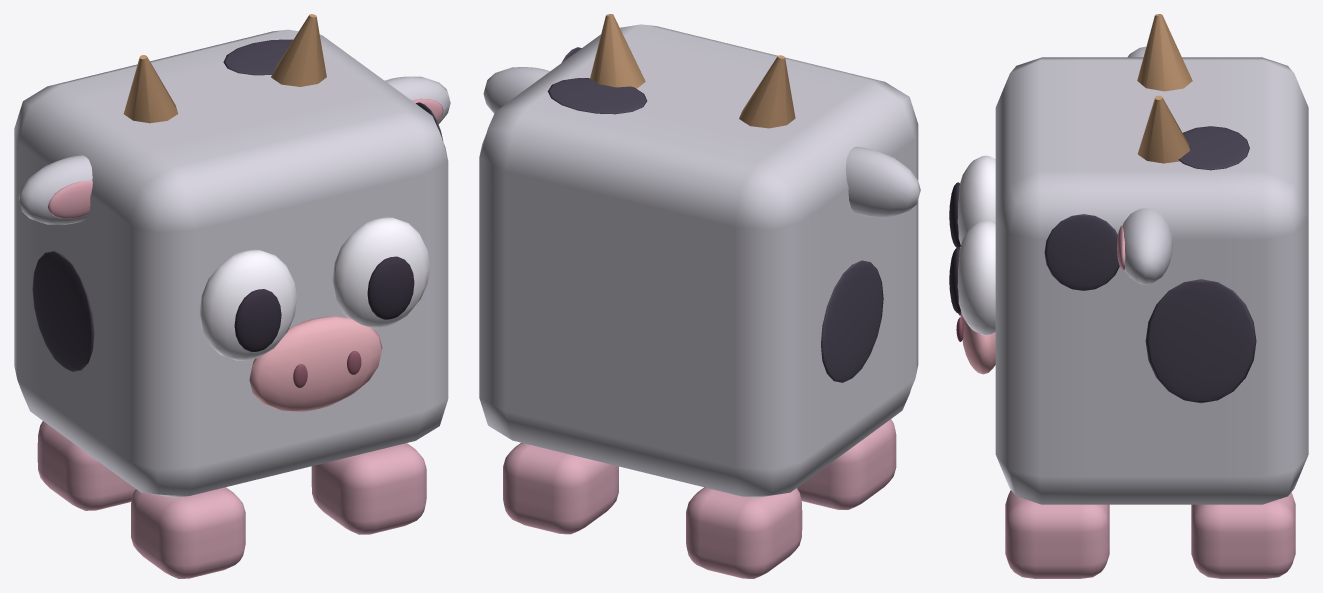
The model's file is pet-cow.glb.
The picture shows the model from 3 angles, left to right: view 1: azimuth 30°, elevation 25°; view 2: azimuth 150°, elevation 25°; view 3: azimuth 270°, elevation 25°; orthographic projection.
Visible parts, largest first — view 1: body, muzzle, foot_L_front, foot_R_front, spot (×2), eye_white_-1, eye_white_1, foot_L_back, ear_-1, horn_1, pupil_1, pupil_-1 (+3 smaller); view 2: body, foot_L_back, spot (×2), foot_R_back, foot_L_front, ear_-1, horn_-1, horn_1, ear_1; view 3: body, spot (×3), foot_R_front, foot_R_back, eye_white_1, ear_1, horn_-1, eye_white_-1, horn_1, muzzle, pupil_1, pupil_-1.
Part boxes in pixels (x1,y1,x2,y2): body: (14, 29, 448, 497); muzzle: (249, 316, 382, 411); foot_L_front: (131, 487, 245, 578); foot_R_front: (311, 443, 426, 534); spot (×2): (32, 39, 292, 371); eye_white_-1: (199, 249, 296, 360); eye_white_1: (332, 217, 429, 328); foot_L_back: (37, 421, 135, 510); ear_-1: (18, 155, 92, 224); horn_1: (271, 14, 326, 86); pupil_1: (367, 256, 414, 319); pupil_-1: (234, 289, 281, 351); body: (479, 24, 918, 497); foot_L_back: (686, 487, 802, 578); spot (×2): (547, 78, 883, 382); foot_R_back: (503, 442, 618, 534); foot_L_front: (797, 419, 896, 509); ear_-1: (846, 146, 920, 216); horn_-1: (739, 55, 795, 128); horn_1: (590, 14, 645, 88); ear_1: (483, 67, 549, 113); body: (995, 57, 1308, 504); spot (×3): (1044, 126, 1256, 403); foot_R_front: (1005, 490, 1109, 578); foot_R_back: (1191, 492, 1295, 578); eye_white_1: (957, 220, 995, 335); ear_1: (1122, 208, 1173, 284); horn_-1: (1137, 14, 1192, 91); eye_white_-1: (957, 155, 995, 244); horn_1: (1138, 95, 1189, 163); muzzle: (960, 311, 995, 374); pupil_1: (949, 247, 960, 313); pupil_-1: (949, 182, 960, 247).
Size of the model in its own units: 1.52 by 1.58 by 1.1.
